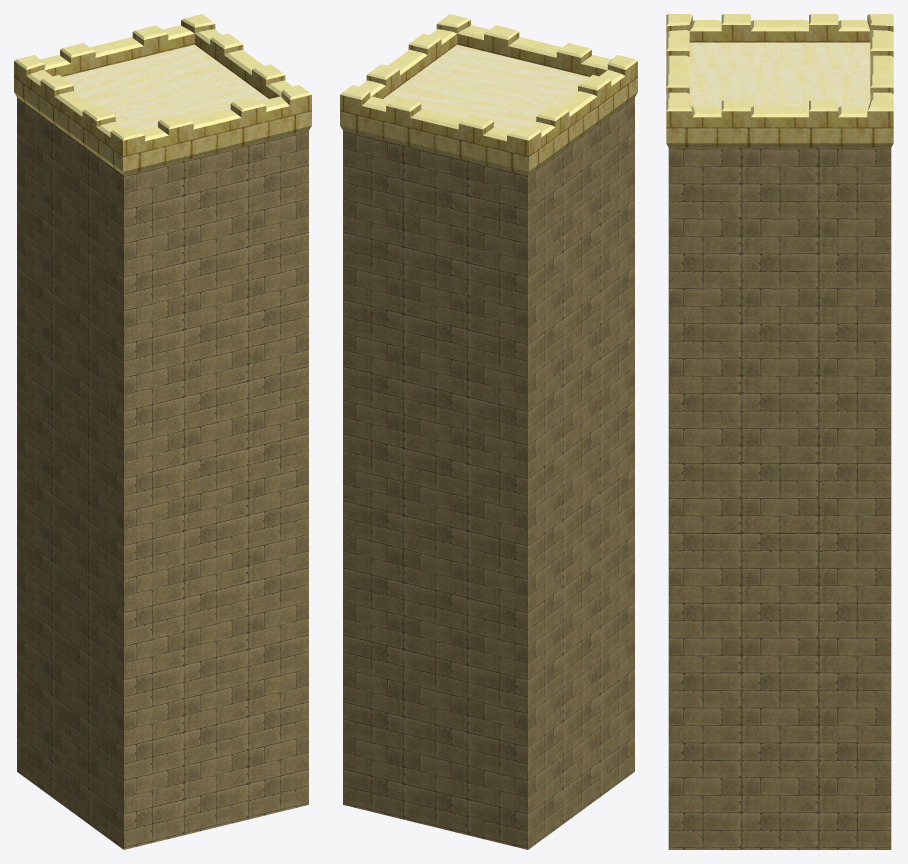
The model's file is SandGlideStartingStep.fbx.
The picture shows the model from 3 angles, left to right: view 1: azimuth 30°, elevation 25°; view 2: azimuth 150°, elevation 25°; view 3: azimuth 270°, elevation 25°; orthographic projection. The views are drawn at different scales.
Parts seen in each view (by area): view 1: Plane.037, Plane.000, Plane.002, Plane.001; view 2: Plane.037, Plane.000, Plane.002, Plane.001; view 3: Plane.037, Plane.002, Plane.000, Plane.001.
Boxes of the visible parts, x1,y1,x2,y2 form: Plane.037: (17,97,308,849); Plane.000: (14,20,311,175); Plane.002: (62,44,268,130); Plane.001: (14,14,311,141); Plane.037: (343,97,634,849); Plane.000: (340,20,637,175); Plane.002: (383,44,589,130); Plane.001: (340,14,637,141); Plane.037: (668,147,891,849); Plane.002: (689,42,870,107); Plane.000: (666,15,893,147); Plane.001: (666,14,893,117).
Size of the model in its own units: 69176 by 249236 by 69176.
Materials: 4 (4 with a texture image).
